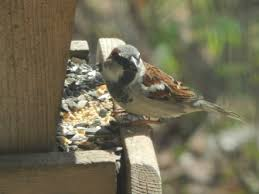hsparrow: (95, 42, 249, 133)
